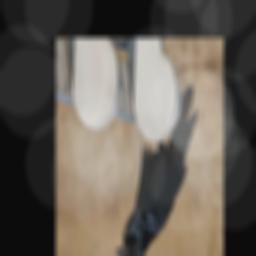Crow: (115, 84, 198, 256)
